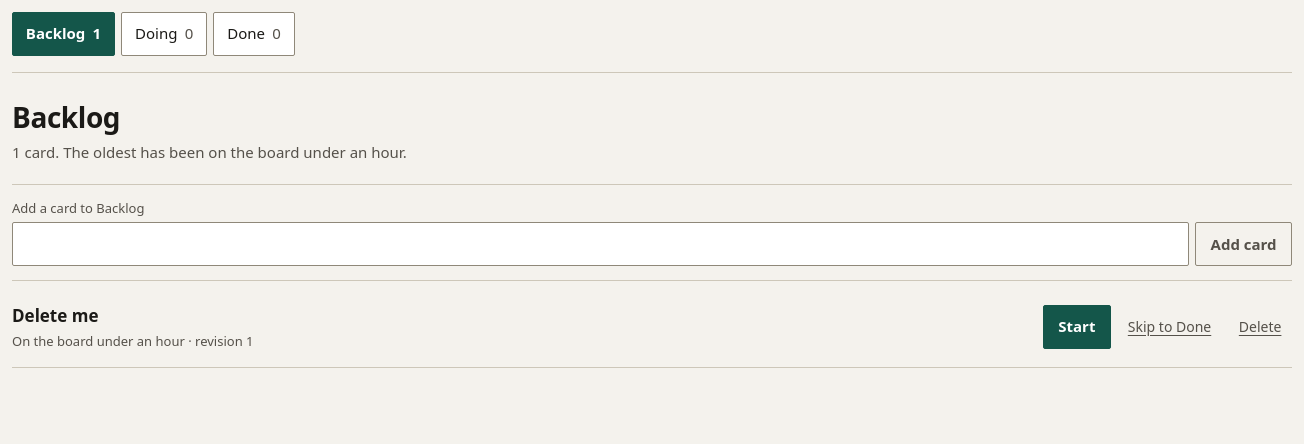
Scenario: Board › reports a delete the API refused for any other reason
Expected: the text "Delete me" is shown, [12,304,98,327]
Click the button named "Delete \"Delete me\"" at (1260, 327), box [1228,305,1292,349]
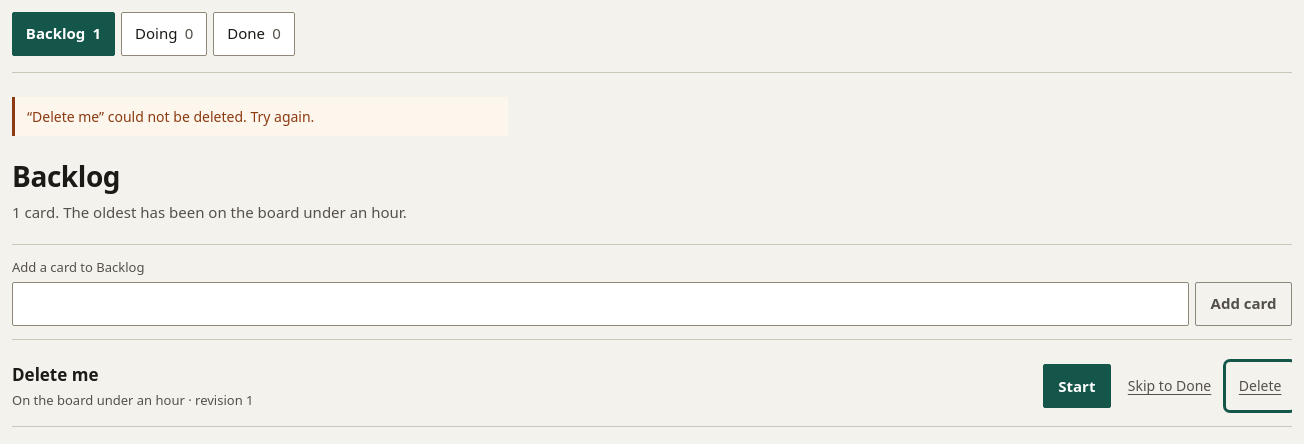
Expected: the text "Delete me" is shown, [12,364,98,386]
Expected: the message shows "Delete me", [27,107,314,126]
